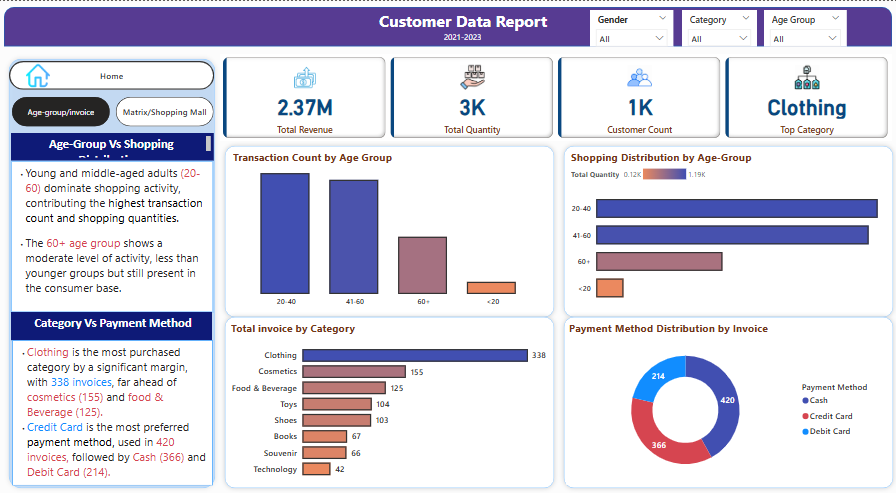

The page's visual inventory and layout, read from the dashboard file:
{"tool":"powerbi","page":{"name":"Age-group/invoice","canvas":[1500,820],"ordinal":1},"visuals":[{"type":"shape","box":[10,88.3,360,731.7],"z":0},{"type":"cardVisual","fields":{"Data":["Sum(customer.Total Revenue)","customer.Total Quantity","customer.Customer Count","customer.Top Category"]},"box":[370,88.3,1120,145],"z":1000},{"type":"shape","box":[10,10,1480,65.7],"z":2000},{"type":"textbox","box":[614.3,10,320,50],"z":3000},{"type":"textbox","box":[731.7,46.7,85,28.3],"z":4000},{"type":"shape","box":[370,233.3,565,301.7],"z":5000},{"type":"textbox","box":[21.4,219.6,337.5,46.4],"z":6000},{"type":"shape","box":[935,233.3,565,301.7],"z":7000},{"type":"shape","box":[370,518.3,565,301.7],"z":8000},{"type":"shape","box":[935,518.3,565,301.7],"z":9000},{"type":"textbox","box":[21.7,266.7,336.7,251.7],"z":10000},{"type":"clusteredBarChart","title":"Shopping Distribution by Age-Group","fields":{"Y":["customer.Total Quantity"],"Category":["customer.Age Group"]},"box":[950,248.3,526.7,270],"z":11000},{"type":"columnChart","fields":{"Category":["customer.Age Group"],"Y":["customer.Transaction Count"]},"box":[386.7,248.3,531.7,270],"z":12000},{"type":"clusteredBarChart","title":"Total invoice by Category","fields":{"Category":["customer.Category"],"Y":["CountNonNull(customer.invoice_date)"]},"box":[383.3,533.3,535,273.3],"z":13000},{"type":"donutChart","title":"Payment Method Distribution by Invoice","fields":{"Category":["customer.Payment_method"],"Y":["CountNonNull(customer.invoice_no)"]},"box":[946.7,533.3,530,273.3],"z":14000},{"type":"textbox","box":[21.7,518.3,335,46.7],"z":15000},{"type":"textbox","box":[23.3,565,335,241.7],"z":16000},{"type":"pageNavigator","box":[23.2,160.7,337.5,50],"z":17000},{"type":"pageNavigator","box":[19,100,342.9,48.2],"z":18000},{"type":"image","box":[41.1,92.9,50,62.5],"z":19000},{"type":"slicer","fields":{"Values":["customer.gender"]},"box":[987.5,14.3,139.3,60.7],"z":20000},{"type":"slicer","fields":{"Values":["customer.Age Group"]},"box":[1276.8,14.3,137.5,60.7],"z":21000},{"type":"slicer","fields":{"Values":["customer.Category"]},"box":[1139.3,14.3,125,60.7],"z":22000}]}

Visuals, with their boxes in screenshot pixels (x1, y1, x2, y2), scaled from the page's 1500x820 canvas onto the 896x493 screenshot:
shape: {"x1": 6, "y1": 53, "x2": 221, "y2": 492}
cardVisual - Sum(customer.Total Revenue) x customer.Total Quantity: {"x1": 221, "y1": 53, "x2": 890, "y2": 140}
shape: {"x1": 6, "y1": 6, "x2": 890, "y2": 46}
textbox: {"x1": 367, "y1": 6, "x2": 558, "y2": 36}
textbox: {"x1": 437, "y1": 28, "x2": 488, "y2": 45}
shape: {"x1": 221, "y1": 140, "x2": 559, "y2": 322}
textbox: {"x1": 13, "y1": 132, "x2": 214, "y2": 160}
shape: {"x1": 559, "y1": 140, "x2": 895, "y2": 322}
shape: {"x1": 221, "y1": 312, "x2": 559, "y2": 492}
shape: {"x1": 559, "y1": 312, "x2": 895, "y2": 492}
textbox: {"x1": 13, "y1": 160, "x2": 214, "y2": 312}
"Shopping Distribution by Age-Group" clusteredBarChart: {"x1": 567, "y1": 149, "x2": 882, "y2": 312}
columnChart - customer.Age Group x customer.Transaction Count: {"x1": 231, "y1": 149, "x2": 549, "y2": 312}
"Total invoice by Category" clusteredBarChart: {"x1": 229, "y1": 321, "x2": 549, "y2": 485}
"Payment Method Distribution by Invoice" donutChart: {"x1": 565, "y1": 321, "x2": 882, "y2": 485}
textbox: {"x1": 13, "y1": 312, "x2": 213, "y2": 340}
textbox: {"x1": 14, "y1": 340, "x2": 214, "y2": 485}
pageNavigator: {"x1": 14, "y1": 97, "x2": 215, "y2": 127}
pageNavigator: {"x1": 11, "y1": 60, "x2": 216, "y2": 89}
image: {"x1": 25, "y1": 56, "x2": 54, "y2": 93}
slicer - customer.gender: {"x1": 590, "y1": 9, "x2": 673, "y2": 45}
slicer - customer.Age Group: {"x1": 763, "y1": 9, "x2": 845, "y2": 45}
slicer - customer.Category: {"x1": 681, "y1": 9, "x2": 755, "y2": 45}
